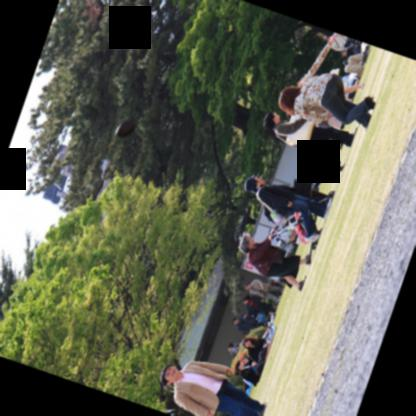handbag: (276, 113, 314, 145), (254, 247, 287, 266), (274, 228, 298, 242)
